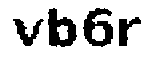6: (80, 5, 115, 49)
b: (46, 6, 78, 49)
r: (117, 16, 144, 50)
v: (9, 17, 44, 48)
